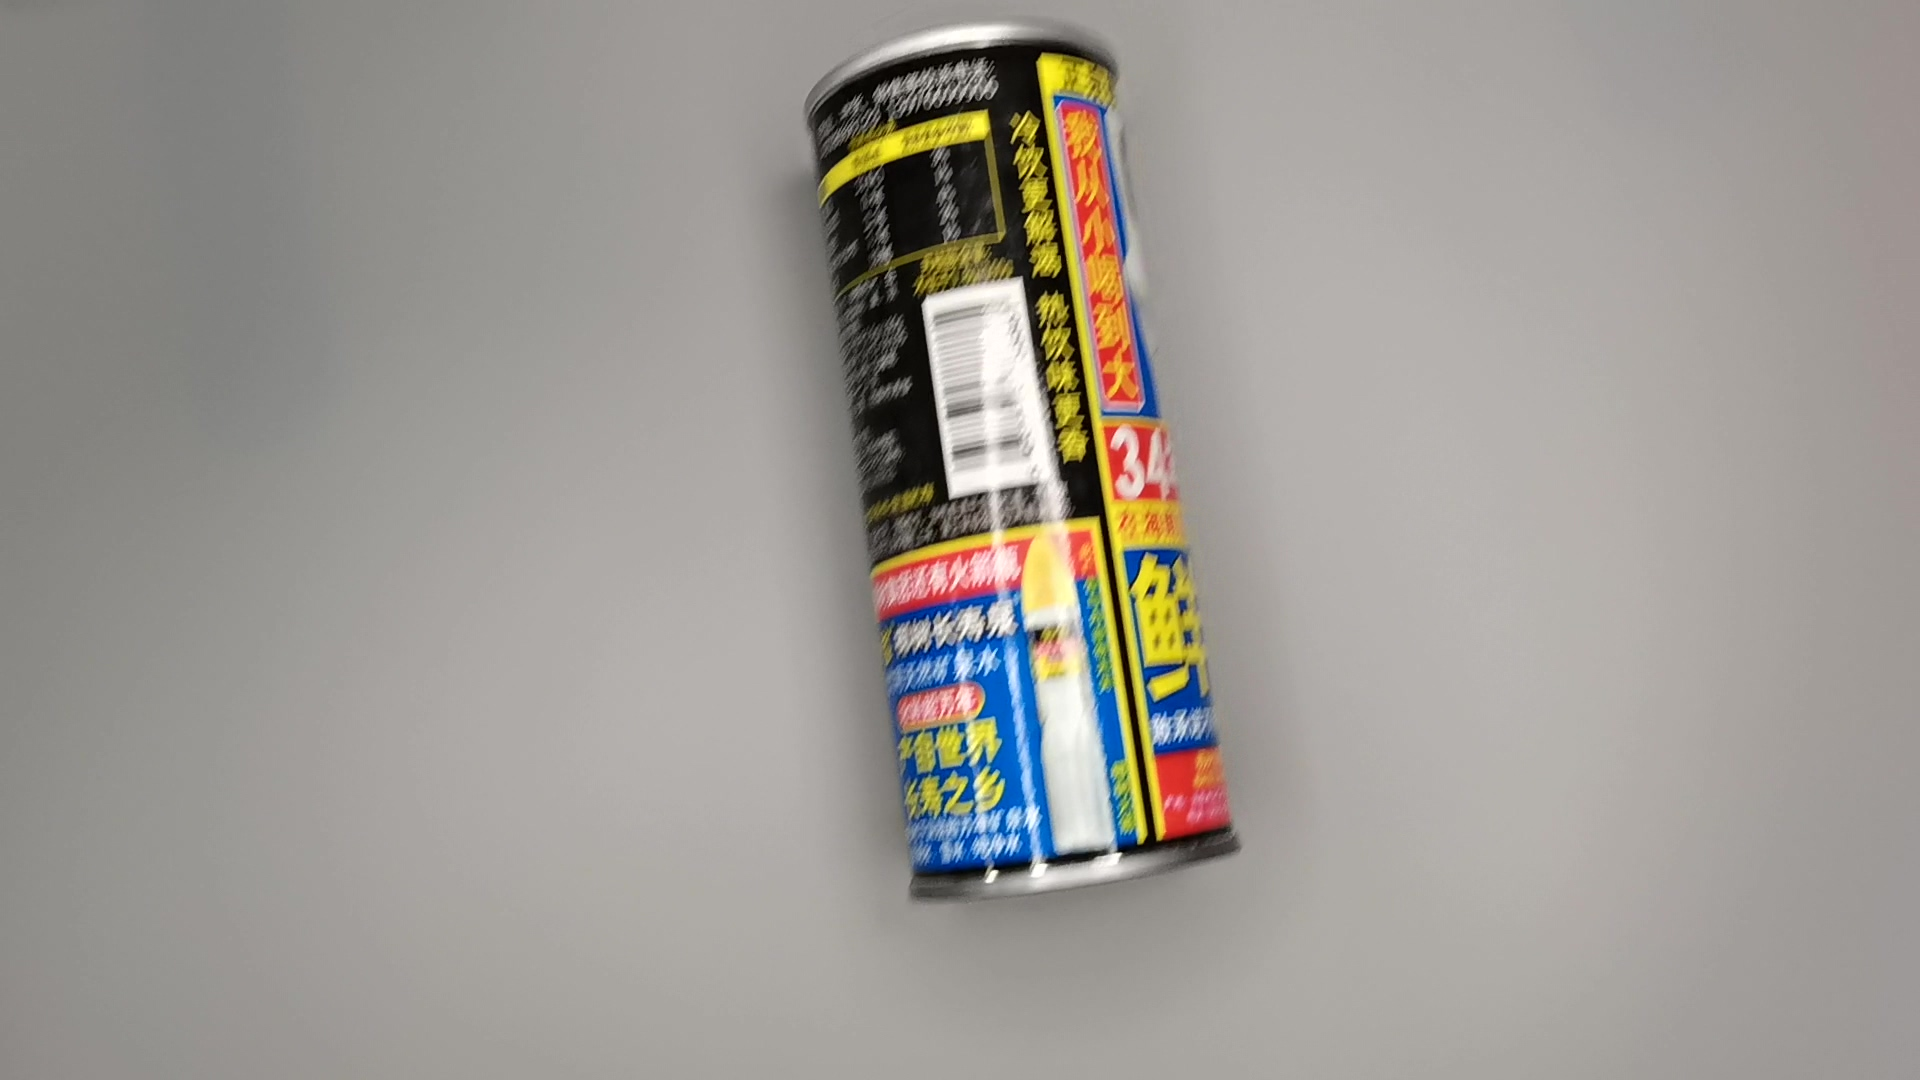can: (795, 12, 1255, 922)
